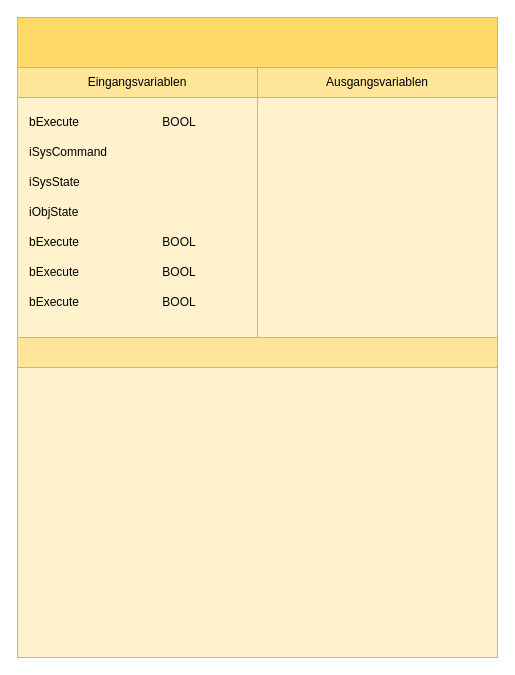
This 515x675 diagram has some shape labels left out. Here are the shapes that lost their labels. From the top down, the box of each, then its label:
(16, 16, 498, 68): Grundaufbau eines Skills
(16, 336, 498, 368): Zustandsdiagramm
